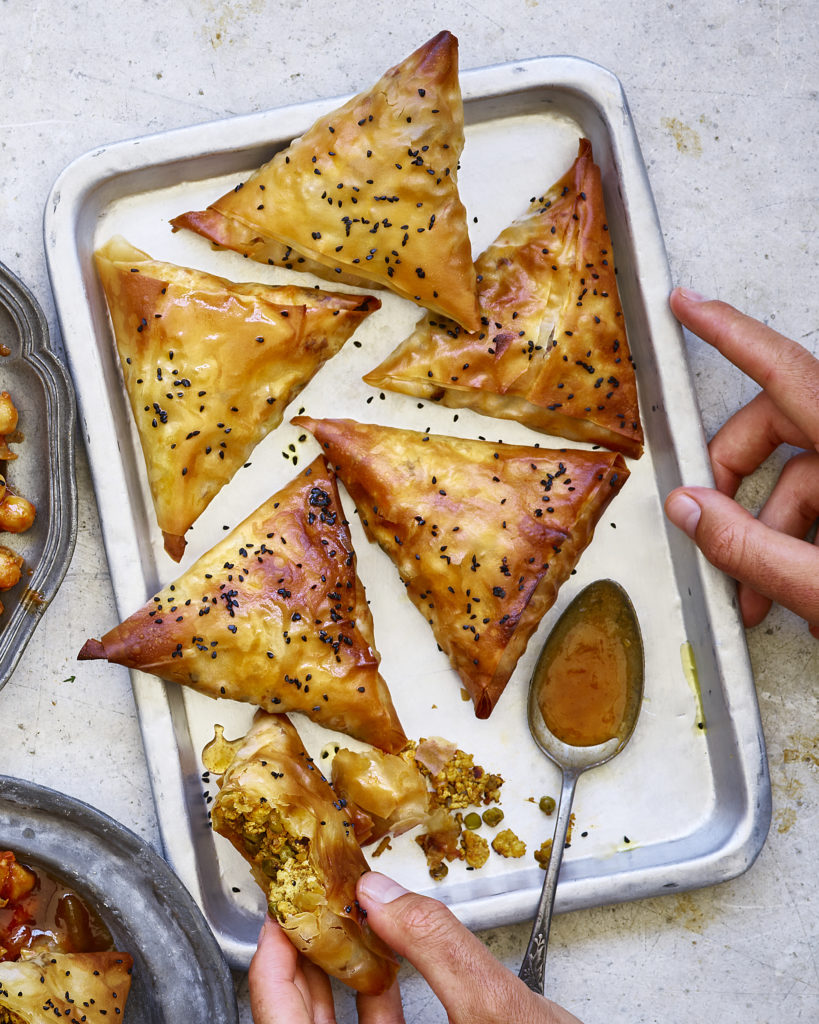samosa: (285, 398, 642, 718), (168, 28, 505, 332), (63, 445, 420, 730), (75, 228, 375, 550), (378, 130, 650, 452), (185, 700, 388, 1000)
